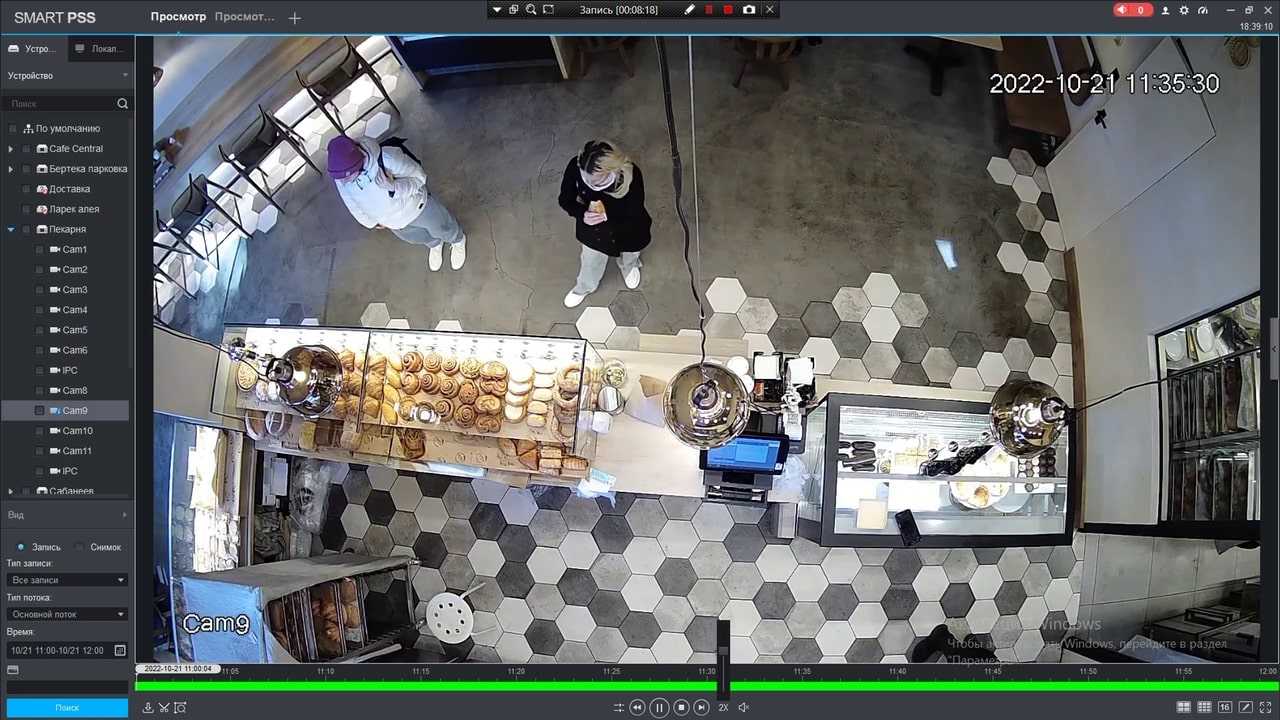barcounter: (216, 322, 1068, 546)
person: (320, 136, 485, 282), (551, 146, 656, 305)
